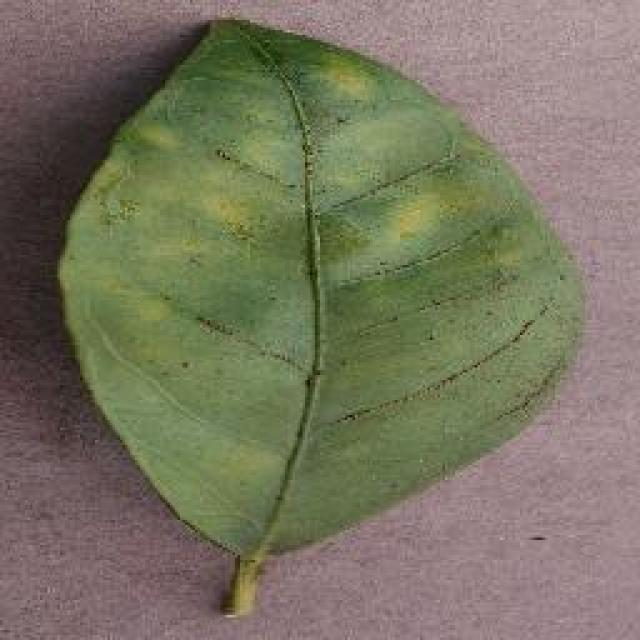Orange_Haunglongbing_Citrus_greening: (104, 88, 520, 526)
